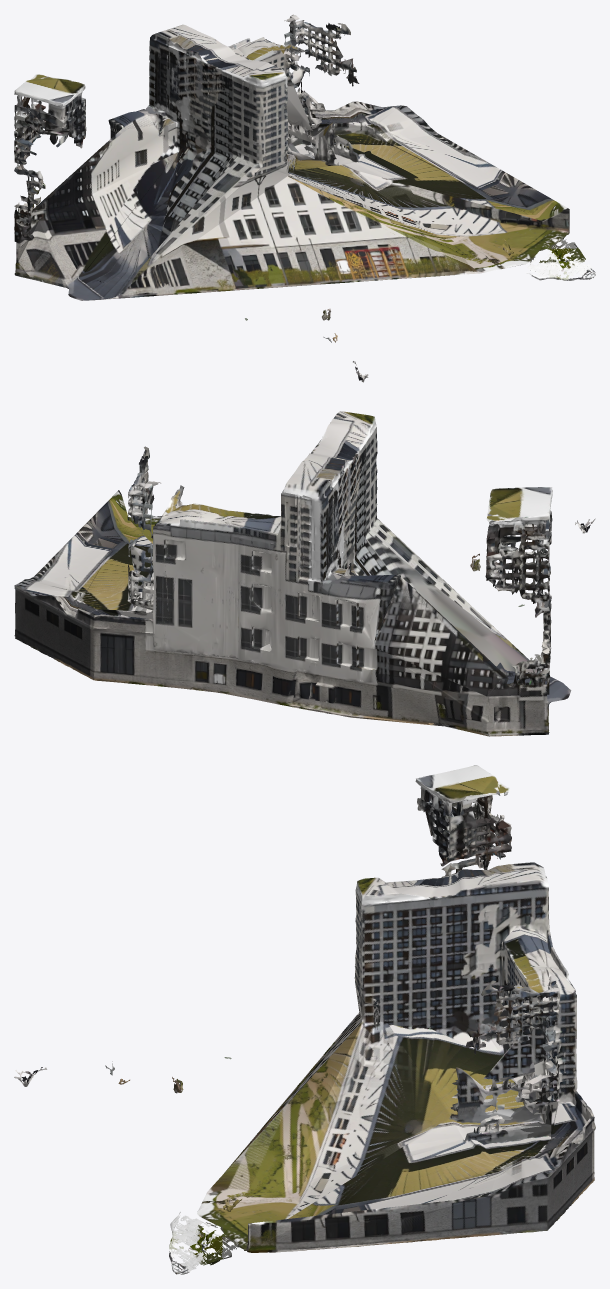
File: construction-10.glb
The picture shows the model from 3 angles, top to bottom: view 1: azimuth 30°, elevation 25°; view 2: azimuth 150°, elevation 25°; view 3: azimuth 270°, elevation 25°; orthographic projection. The views are drawn at different scales.
Bounding box in the file's own units: 1.48 × 0.6318 × 1.36.
1 material, 1 textured.
